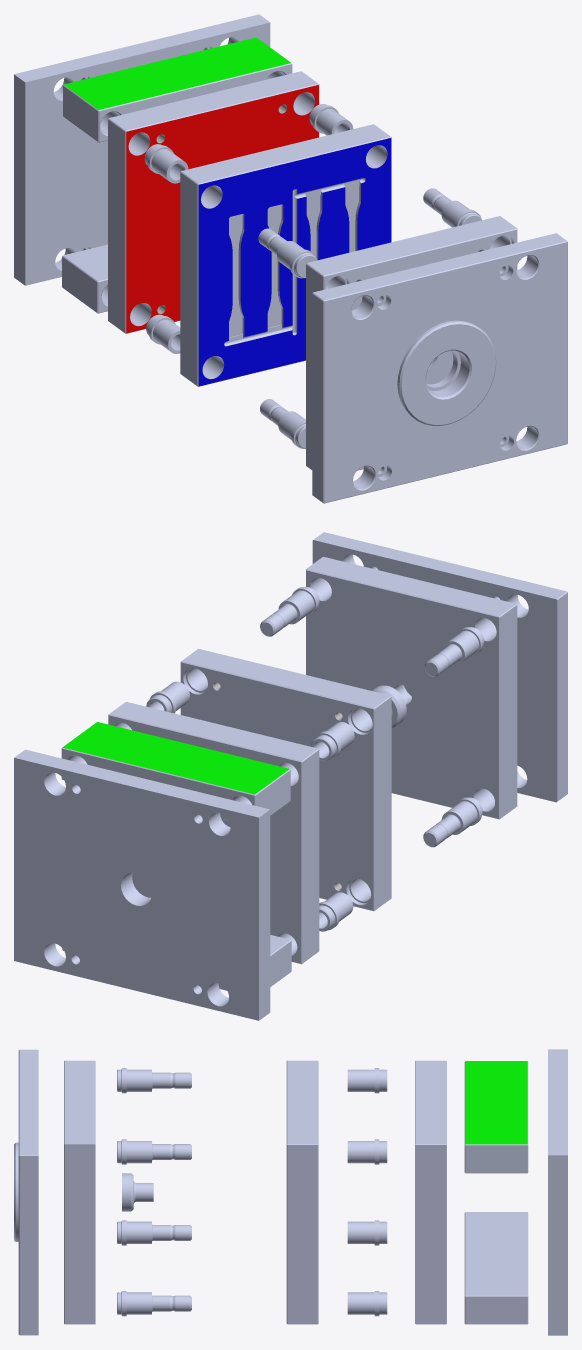
Rendered from Moule-projet.glb.
The picture shows the model from 3 angles, top to bottom: view 1: azimuth 30°, elevation 25°; view 2: azimuth 150°, elevation 25°; view 3: azimuth 270°, elevation 25°; orthographic projection. The views are drawn at different scales.
Parts seen in each view (by area): view 1: color, color-17, color-2, color-10; view 2: color, color-10; view 3: color, color-10.
Part boxes in pixels (x1,y1,x2,y2): color: (14, 14, 567, 503); color-17: (198, 138, 391, 386); color-2: (126, 85, 318, 333); color-10: (64, 37, 290, 109); color: (14, 532, 567, 1020); color-10: (62, 722, 289, 794); color: (14, 1049, 567, 1335); color-10: (465, 1061, 527, 1144).
Bounding box in the file's own units: 0.3155 × 0.2502 × 0.6956.
